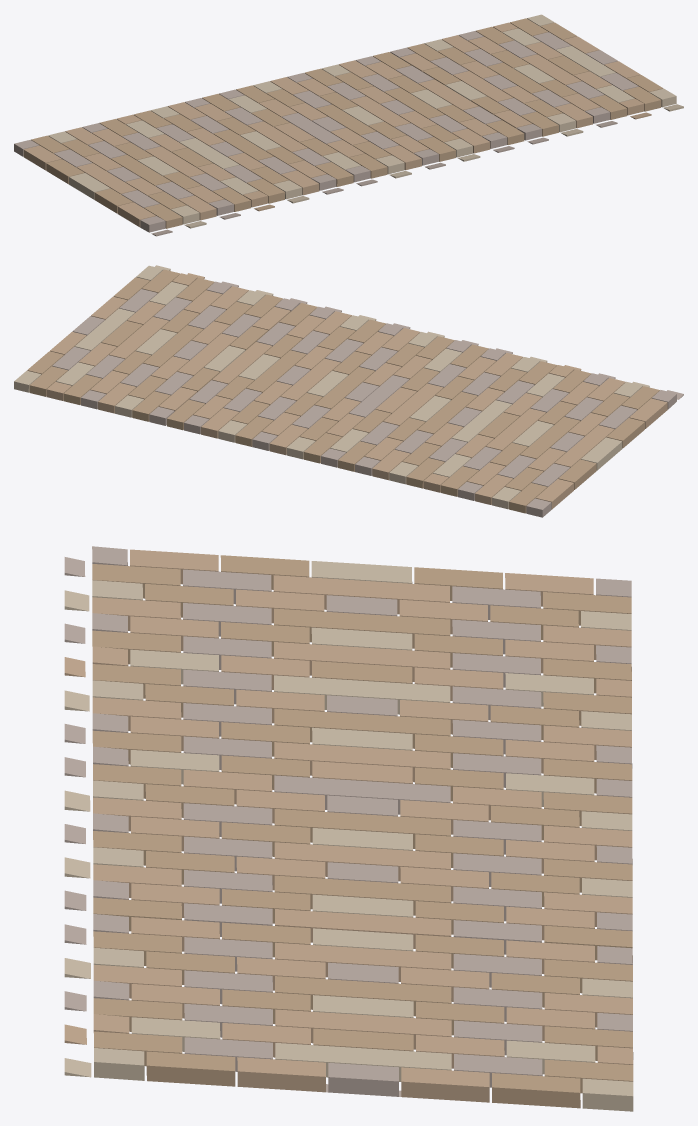
File: Pathway.glb
3 renders of one model, top to bottom at view 1: azimuth 30°, elevation 25°; view 2: azimuth 150°, elevation 25°; view 3: azimuth 270°, elevation 25°, orthographic. The views are drawn at different scales.
Parts seen in each view (by area): view 1: Mesh_Mesh_head_geo.001_lambert2SG.001; view 2: Mesh_Mesh_head_geo.001_lambert2SG.001; view 3: Mesh_Mesh_head_geo.001_lambert2SG.001.
Boxes of the visible parts, <box> form: Mesh_Mesh_head_geo.001_lambert2SG.001: <box>14,14,683,236</box>; Mesh_Mesh_head_geo.001_lambert2SG.001: <box>14,265,683,517</box>; Mesh_Mesh_head_geo.001_lambert2SG.001: <box>64,546,633,1111</box>.
Bounding box in the file's own units: 721 × 32.82 × 336.
